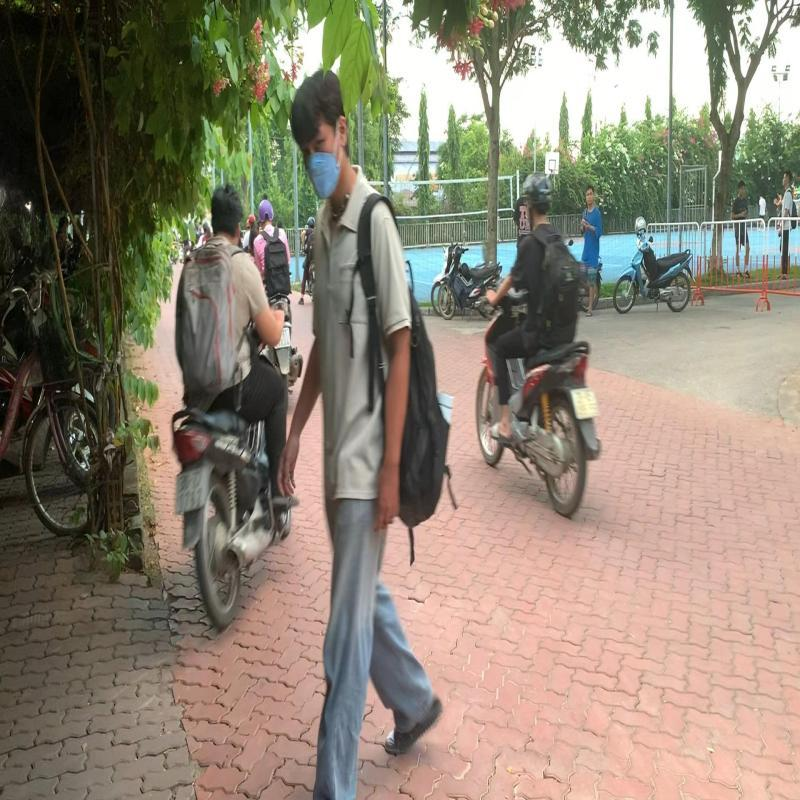nohelmet: (209, 176, 243, 244)
